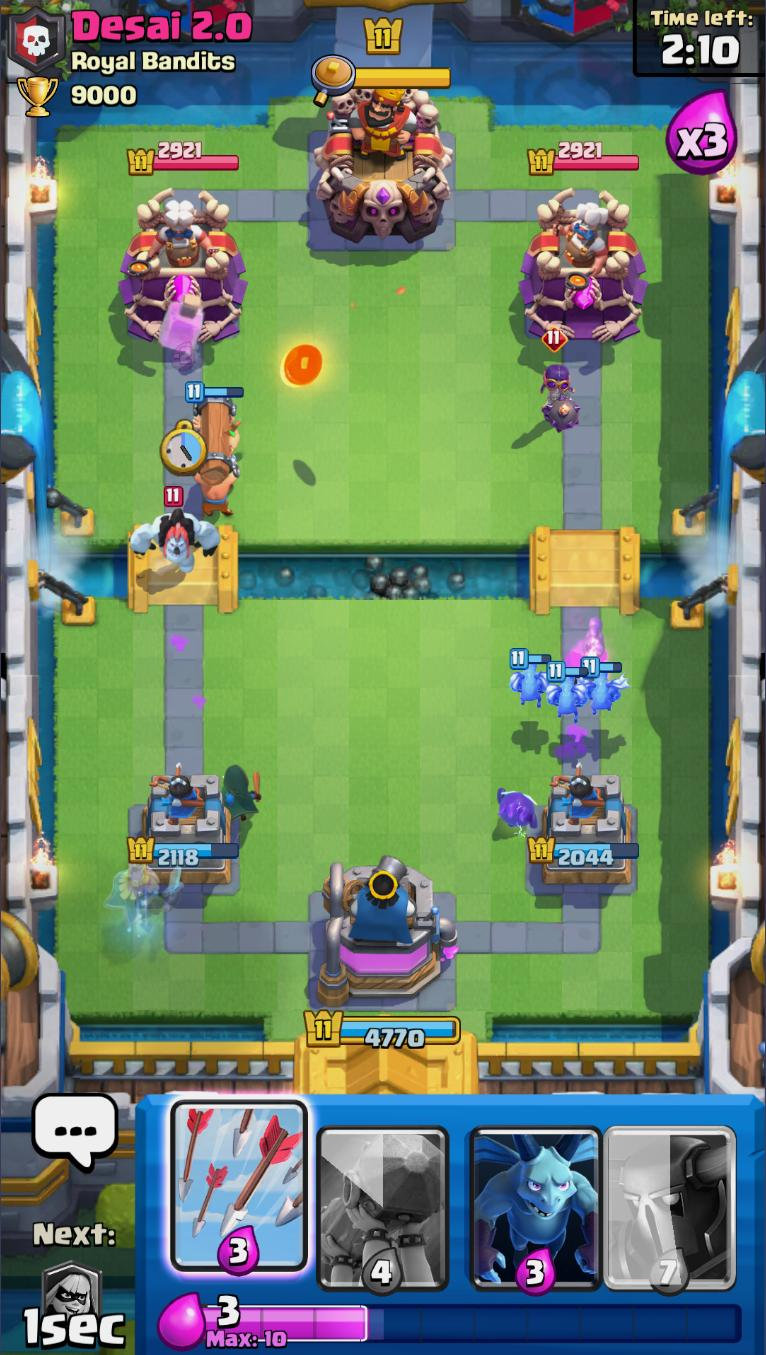ArrowDeck: (167, 1097, 313, 1290)
BanditNext: (41, 1261, 104, 1343)
BattleRamDeck: (310, 1100, 456, 1296)
Chef: (147, 199, 220, 270), (546, 204, 614, 269)
Elixir: (202, 1296, 742, 1349)
EnemyTower: (119, 189, 249, 344), (520, 189, 649, 343)
EvoBomber: (536, 326, 581, 434)
IceGolem: (132, 485, 221, 573)
KingTower: (314, 84, 456, 244)
MinionsDeck: (453, 1100, 599, 1300)
MyBandit: (216, 764, 273, 827)
MyBattleRam: (186, 379, 246, 519)
MyElectroSpirit: (491, 784, 543, 833)
MyKingHP: (301, 1004, 463, 1053)
MyKingTower: (311, 853, 461, 1009)
MyMinion: (580, 657, 633, 714), (547, 661, 590, 723), (509, 646, 551, 709)
MyPrincessTower: (127, 774, 240, 889), (529, 774, 641, 890)
MyPrincessTowerHP: (126, 833, 241, 869), (529, 833, 641, 867)
MyRoyaleGhost: (106, 857, 183, 941)
PekkaDeck: (599, 1100, 744, 1297)
TowerPrincessHP: (529, 141, 641, 177), (129, 141, 241, 174)
